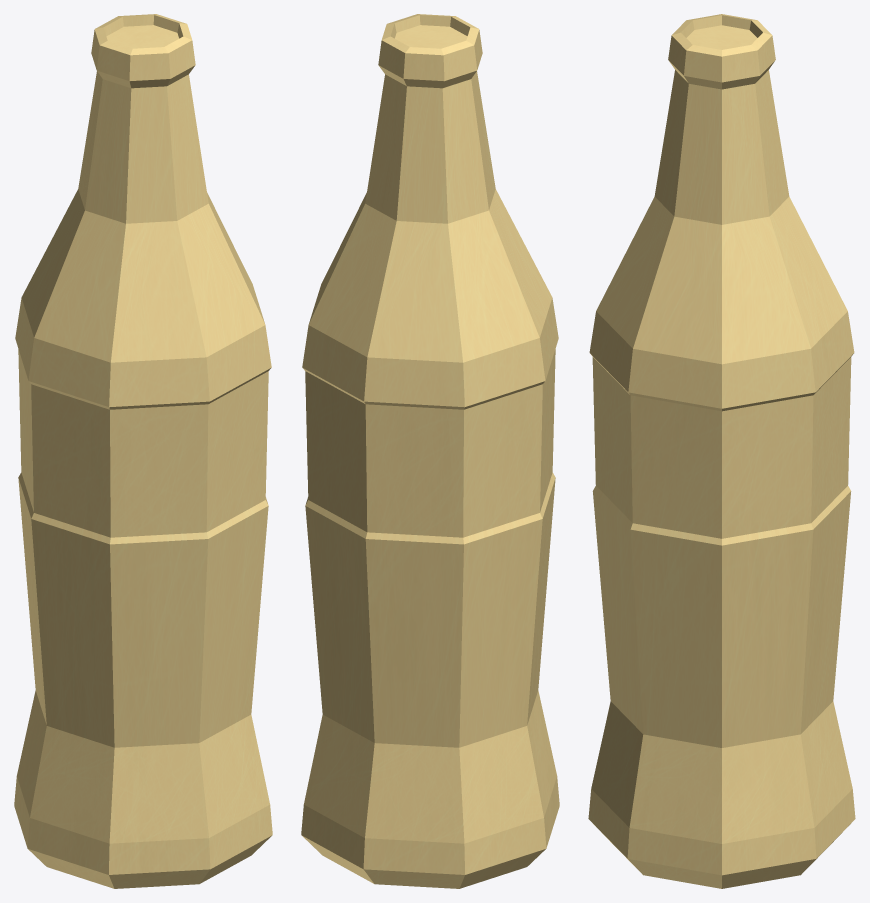
Rendered from botella.fbx.
The picture shows the model from 3 angles, left to right: view 1: azimuth 30°, elevation 25°; view 2: azimuth 150°, elevation 25°; view 3: azimuth 270°, elevation 25°; orthographic projection.
Visible parts, largest first — view 1: Botella; view 2: Botella; view 3: Botella.
Part boxes in pixels (left/top/right/bottom): Botella: left=14, top=14, right=272, bottom=888; Botella: left=301, top=14, right=559, bottom=888; Botella: left=588, top=14, right=855, bottom=888.
Bounding box in the file's own units: 0.0846 × 0.0846 × 0.283.
Materials: 1 (1 with a texture image).
